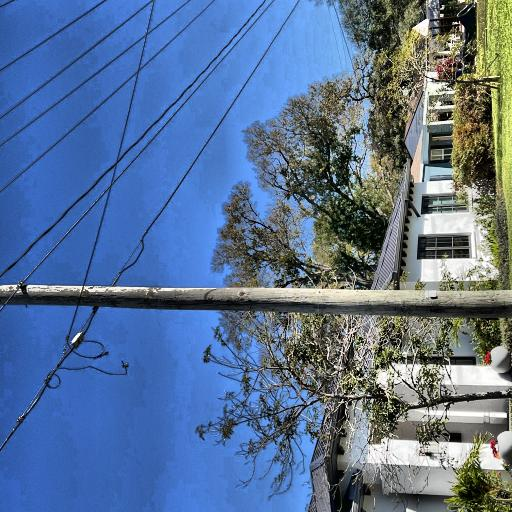pole: (67, 0, 111, 512)
street light: (95, 8, 209, 103)
